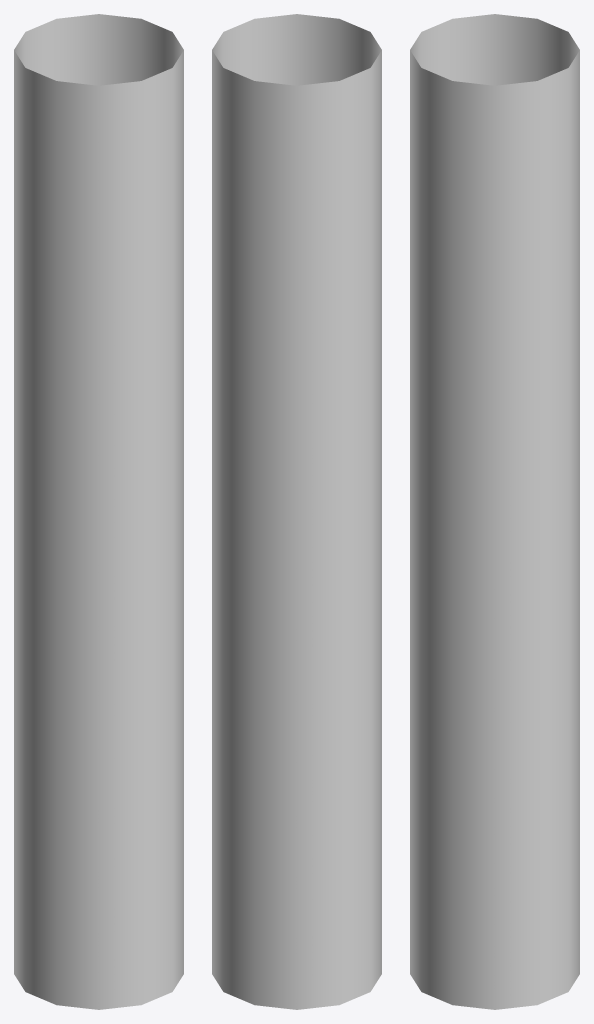
File: Tube_Light_01.FBX
The picture shows the model from 3 angles, left to right: view 1: azimuth 30°, elevation 25°; view 2: azimuth 150°, elevation 25°; view 3: azimuth 270°, elevation 25°; orthographic projection.
Parts seen in each view (by area): view 1: Tube_Light_01; view 2: Tube_Light_01; view 3: Tube_Light_01.
Boxes of the visible parts, box(x1,y1,x2,y2) form: Tube_Light_01: box(14, 14, 183, 1009); Tube_Light_01: box(212, 14, 381, 1009); Tube_Light_01: box(410, 14, 579, 1009).
Bounding box in the file's own units: 0.5 × 3 × 0.5.
Materials: 1 (1 with a texture image).
